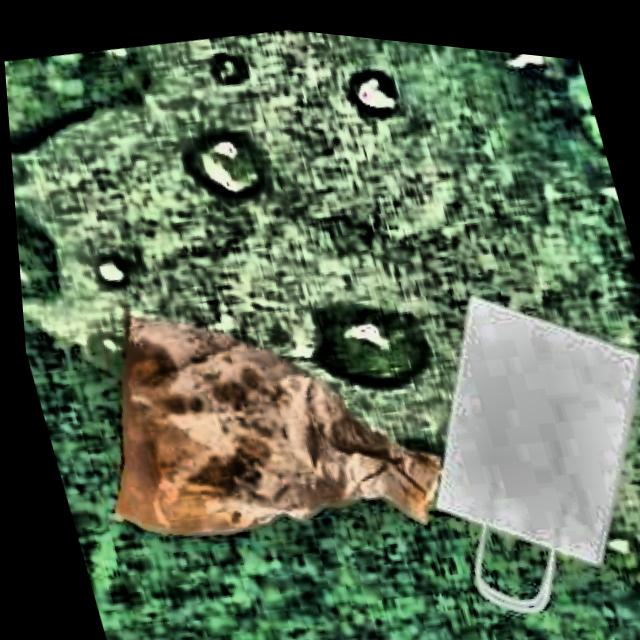Paper-bag: (31, 228, 459, 588), (369, 241, 640, 640)
